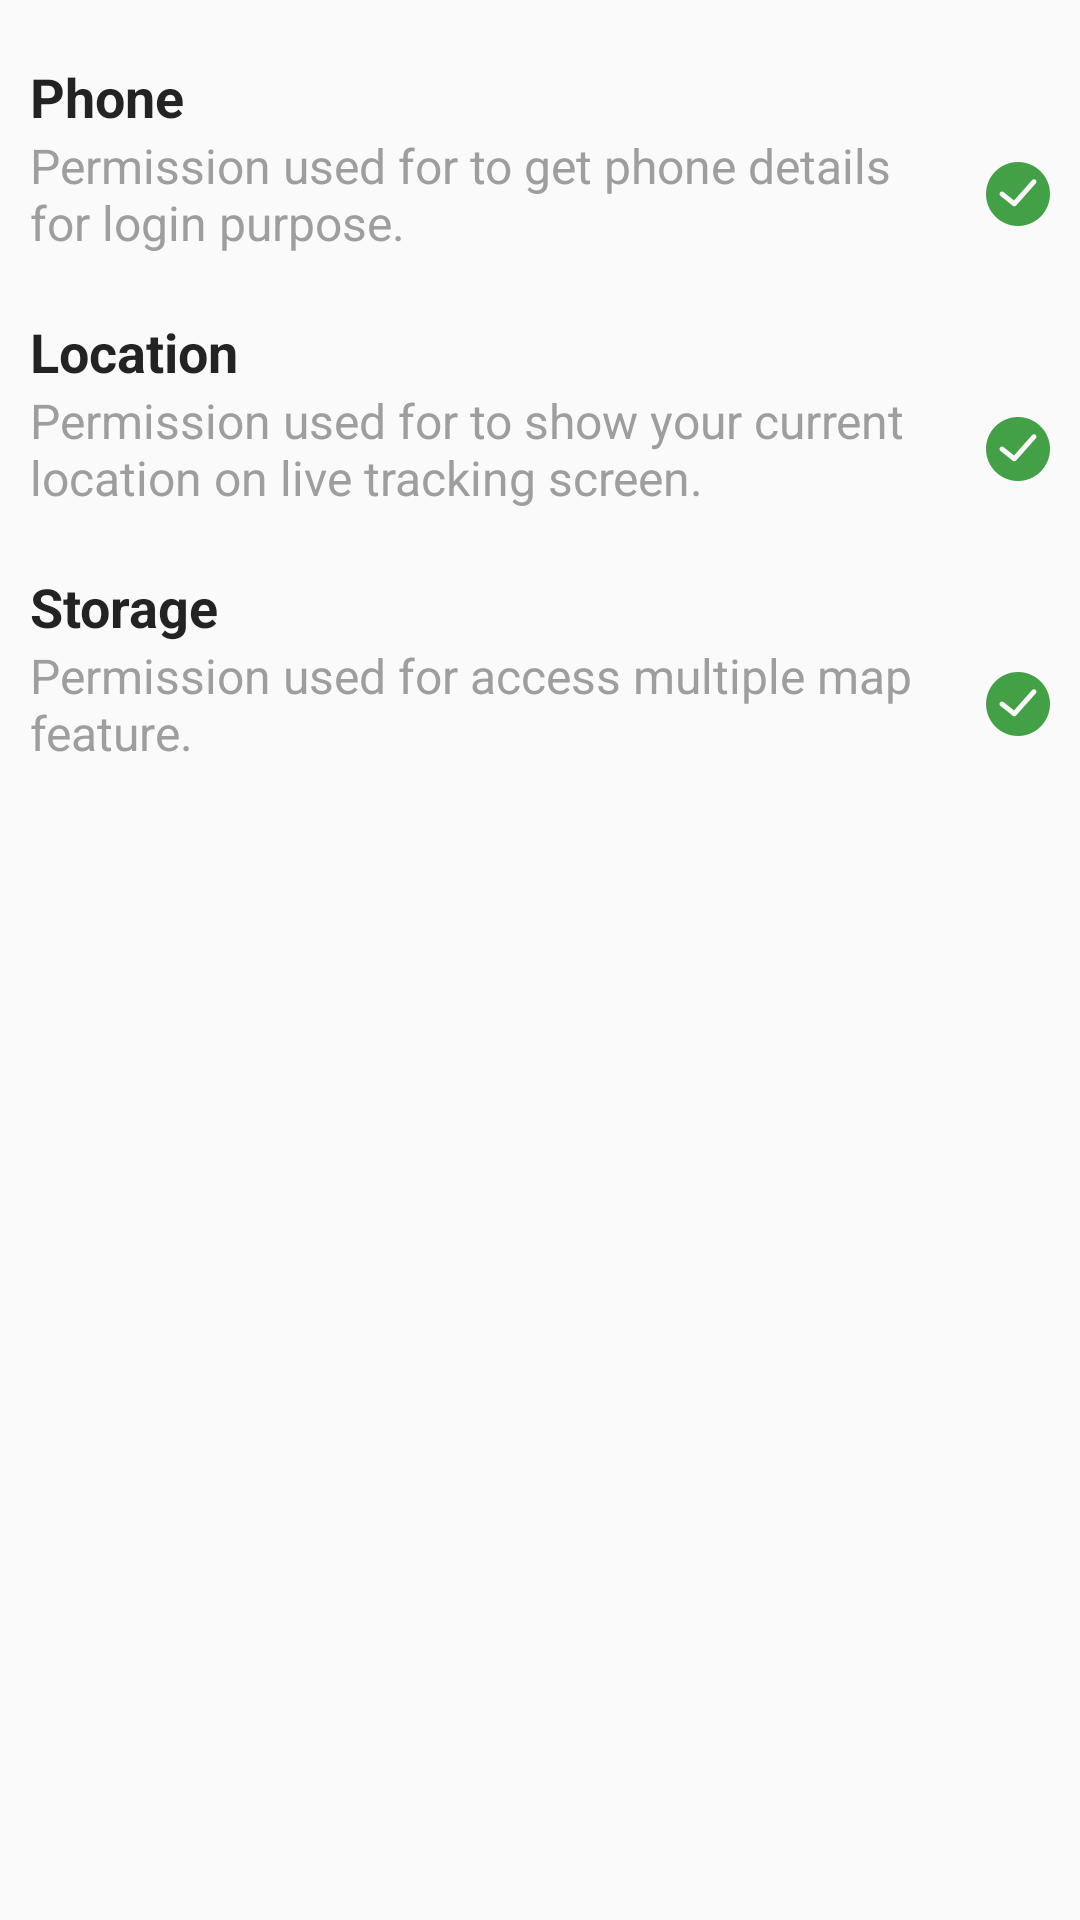

Screen size 1080×1920. Icon name, then its center in pixels as (x=x, y=y):
success: (x=1018, y=194), (x=1018, y=449), (x=1018, y=704)
